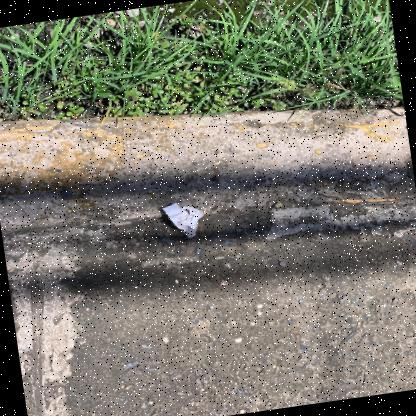Normal paper: (161, 202, 203, 238)
